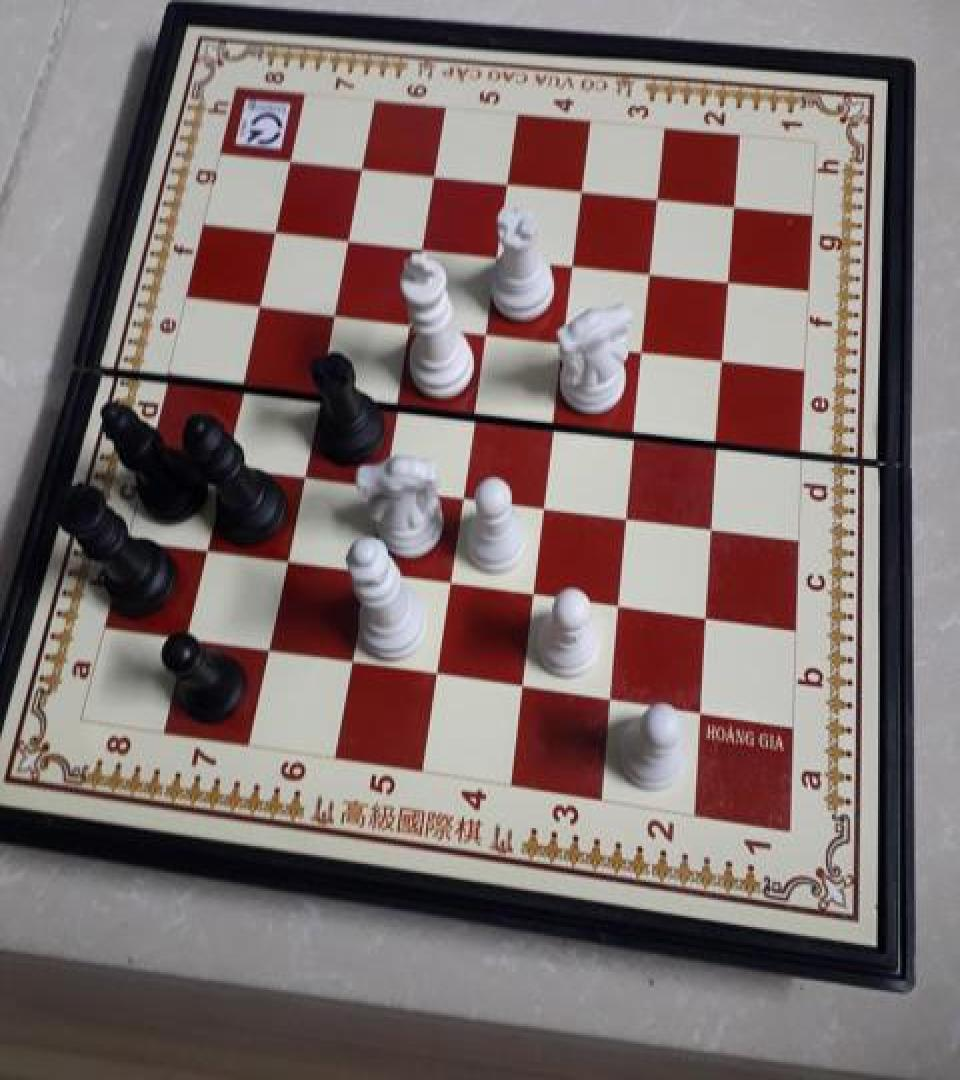xcorner: (333, 220, 363, 255), (419, 157, 449, 192), (169, 616, 199, 650), (251, 629, 281, 663), (335, 642, 365, 676), (420, 654, 450, 688), (507, 668, 537, 702), (596, 682, 626, 716), (686, 696, 716, 730), (189, 528, 219, 562), (269, 539, 299, 573), (351, 550, 381, 584), (434, 562, 464, 596), (519, 575, 549, 609), (605, 587, 635, 621), (693, 600, 723, 634), (208, 442, 238, 476), (286, 453, 316, 487), (366, 464, 396, 498), (529, 485, 559, 519), (613, 496, 643, 530), (699, 508, 729, 542), (226, 362, 256, 396), (302, 371, 332, 405), (380, 381, 410, 415), (459, 392, 489, 426), (540, 400, 570, 434), (622, 412, 652, 446), (705, 422, 735, 456), (243, 286, 273, 320), (394, 302, 424, 336), (550, 320, 580, 354), (629, 330, 659, 364), (711, 340, 741, 374), (260, 212, 290, 246), (407, 228, 437, 262), (482, 236, 512, 270), (559, 245, 589, 279), (637, 253, 667, 287), (716, 262, 746, 296), (275, 143, 305, 177), (347, 150, 377, 184), (493, 165, 523, 199), (568, 172, 598, 206), (644, 180, 674, 214), (721, 188, 751, 222), (447, 475, 477, 508), (318, 294, 348, 327), (471, 312, 501, 345)
